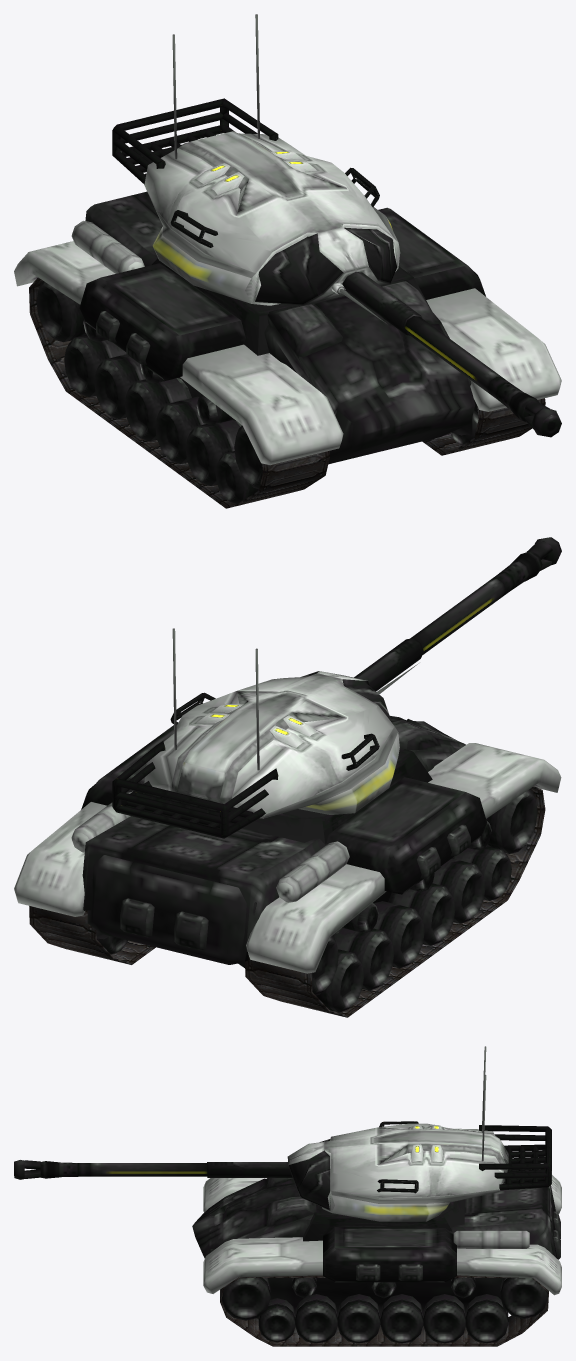
3 views of the same model, one above another, from view 1: azimuth 30°, elevation 25°; view 2: azimuth 150°, elevation 25°; view 3: azimuth 270°, elevation 25° (orthographic). The views are drawn at different scales.
Visible parts, largest first — view 1: Mesh.002, Mesh, Mesh.003, Bone_Main; view 2: Mesh.002, Mesh, Mesh.003, Bone_Main; view 3: Mesh.002, Mesh, Mesh.003, Bone_Main.
Boxes of the visible parts, <box> form: Mesh.002: <box>14,191,561,503</box>; Mesh: <box>112,14,400,305</box>; Mesh.003: <box>79,207,485,380</box>; Bone_Main: <box>29,277,545,508</box>; Mesh.002: <box>14,537,561,1012</box>; Mesh: <box>112,628,399,838</box>; Mesh.003: <box>81,725,486,894</box>; Bone_Main: <box>29,786,545,1017</box>; Mesh.002: <box>14,1160,561,1343</box>; Mesh: <box>287,1046,551,1221</box>; Mesh.003: <box>323,1227,456,1282</box>; Bone_Main: <box>220,1275,548,1346</box>.
Bounding box in the file's own units: 2.03 × 1.98 × 4.14.
Materials: 5 (5 with a texture image).
